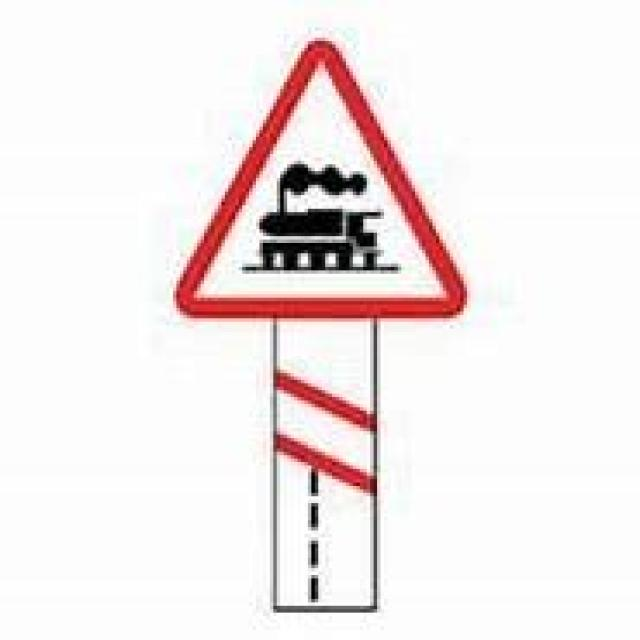right_turn: (170, 34, 467, 613)
